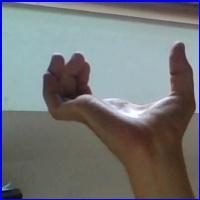B: (33, 43, 197, 164)
